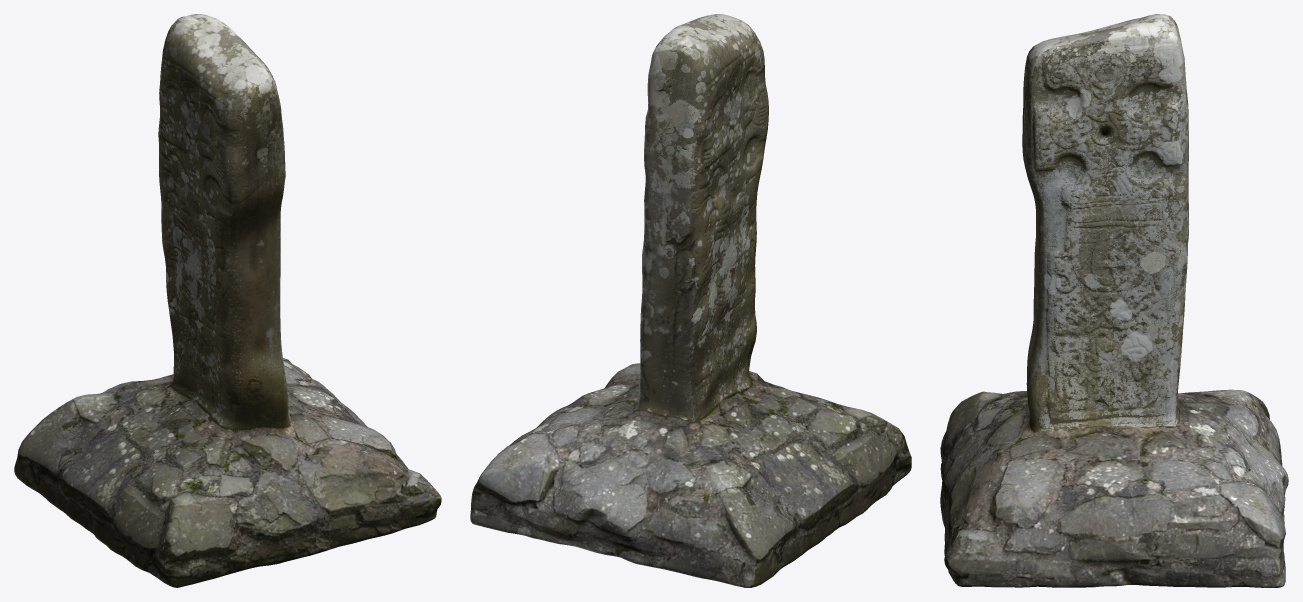
File: preview.glb
3 renders of one model, left to right at view 1: azimuth 30°, elevation 25°; view 2: azimuth 150°, elevation 25°; view 3: azimuth 270°, elevation 25°, orthographic. The views are drawn at different scales.
Visible parts, largest first — view 1: Group5376_Material #25_0; view 2: Group5376_Material #25_0; view 3: Group5376_Material #25_0.
Boxes of the visible parts, box(x1,y1,x2,y2) form: Group5376_Material #25_0: box(14, 14, 441, 587); Group5376_Material #25_0: box(470, 14, 911, 587); Group5376_Material #25_0: box(940, 14, 1288, 587).
Size of the model in its own units: 1.22 by 1.94 by 1.24.
Materials: 1 (1 with a texture image).
